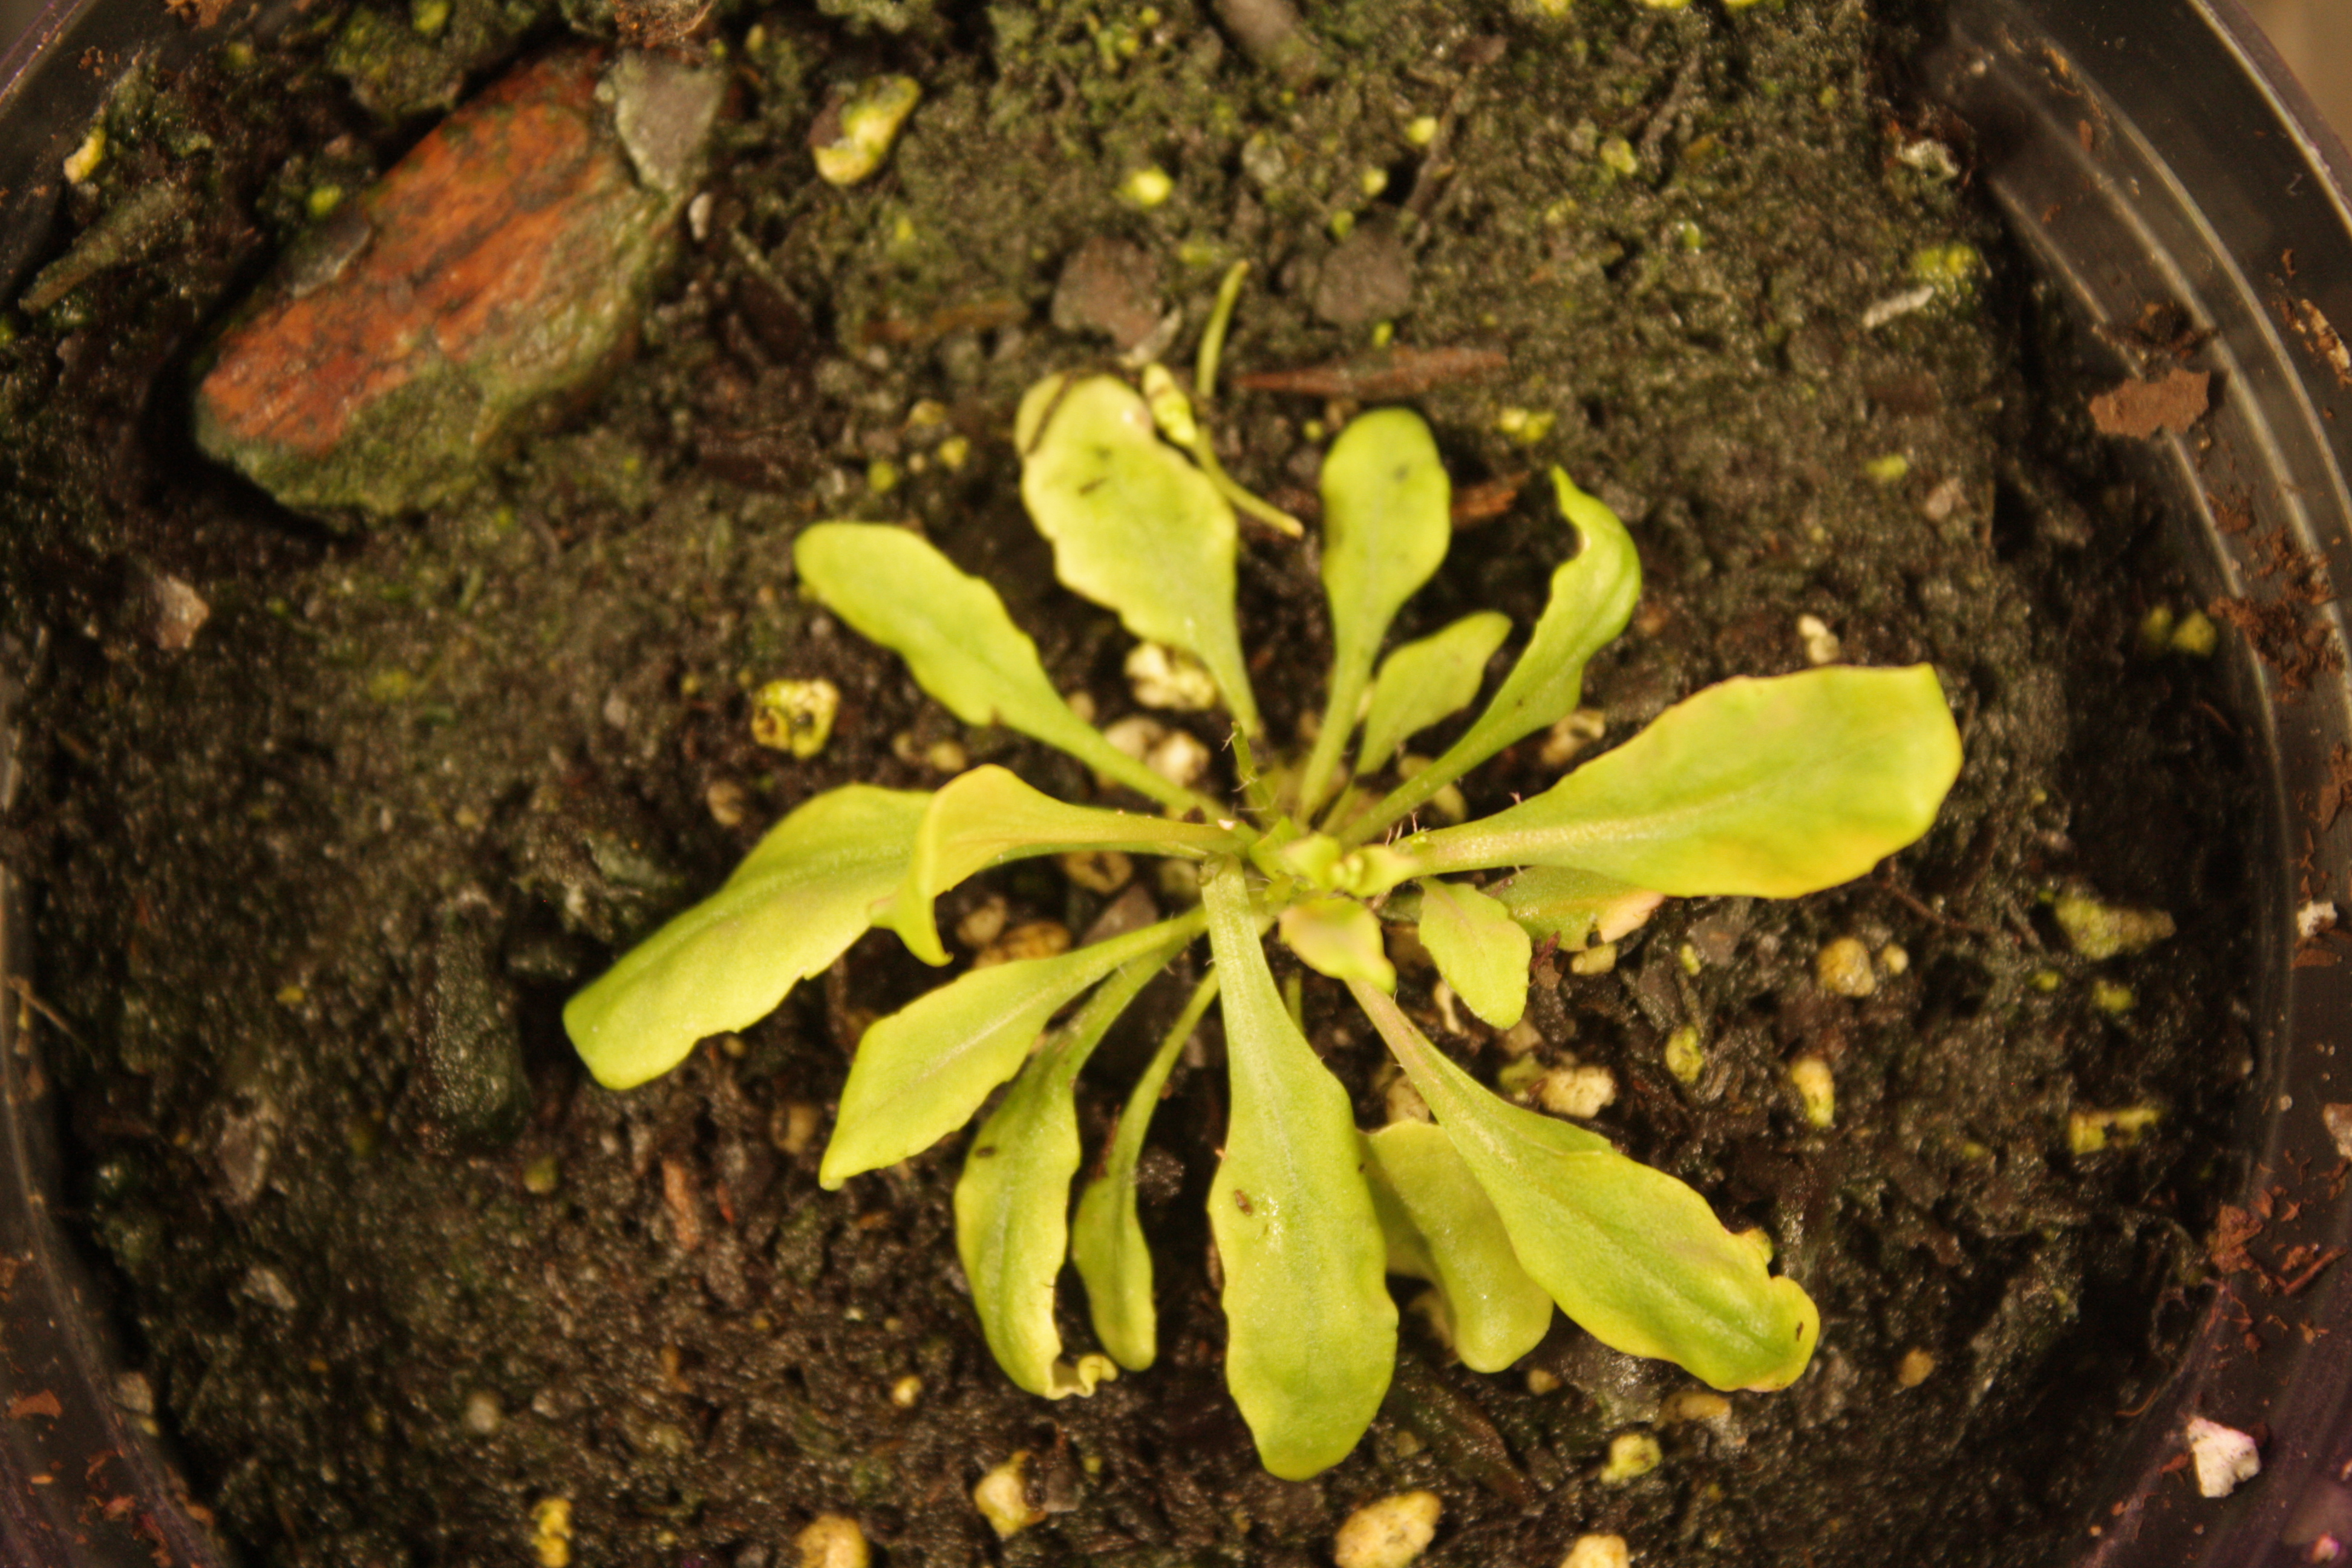leaf: (535, 745, 1020, 1101), (1473, 654, 2025, 912), (1174, 906, 1398, 1488), (1431, 1099, 1832, 1402), (1013, 322, 1258, 686), (763, 501, 1087, 754), (801, 933, 1087, 1193), (1295, 387, 1459, 738), (941, 1038, 1094, 1403), (1489, 462, 1666, 749), (1374, 1111, 1540, 1400), (1064, 1053, 1202, 1388), (1349, 618, 1508, 791), (1400, 877, 1552, 1039)
